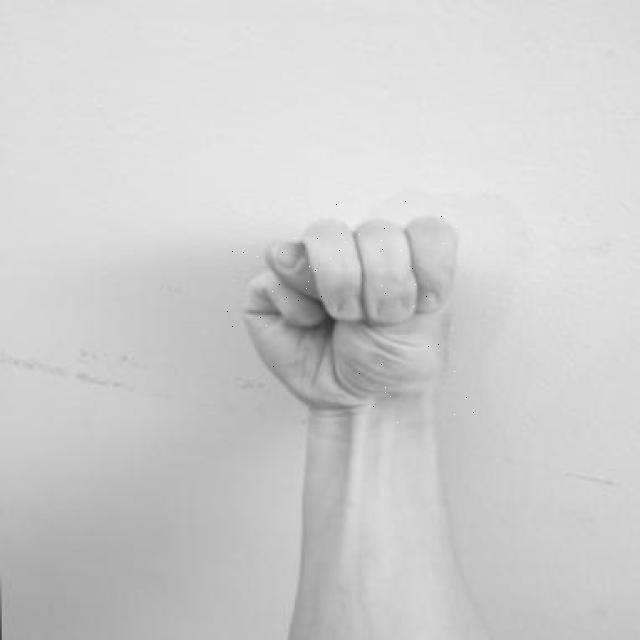M: (226, 194, 474, 423)
